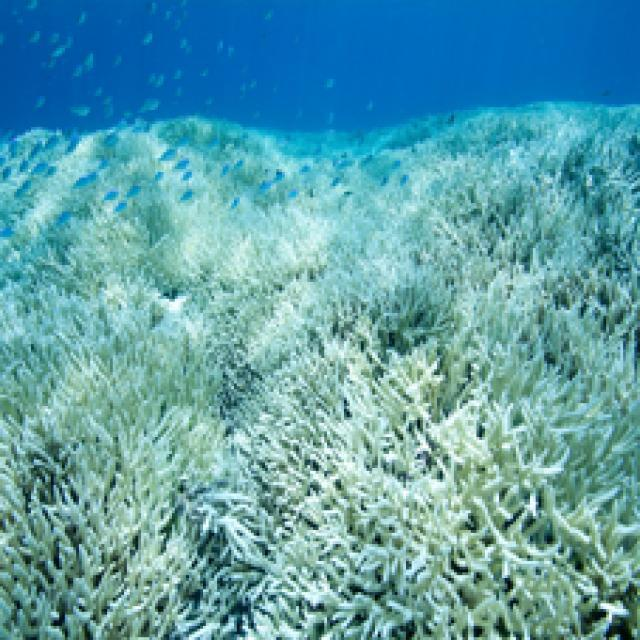Bleached: (1, 136, 640, 640), (379, 365, 626, 640), (1, 345, 176, 640), (430, 103, 640, 163)
